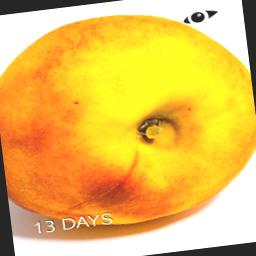Peach Unripe: (0, 0, 256, 243)
